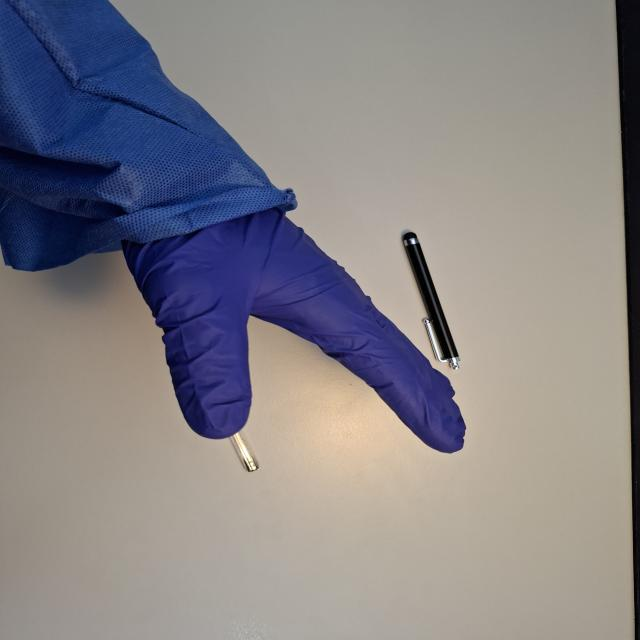glove_on: (110, 194, 471, 456)
